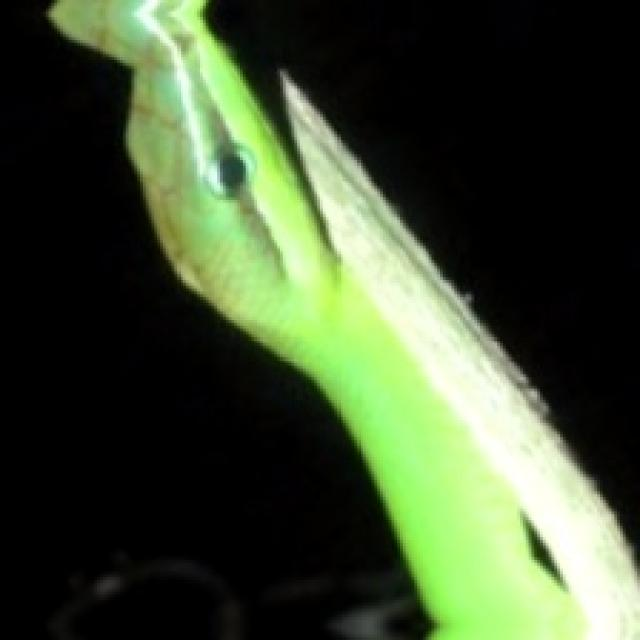red-tailed green ratsnake: (51, 0, 637, 637)
